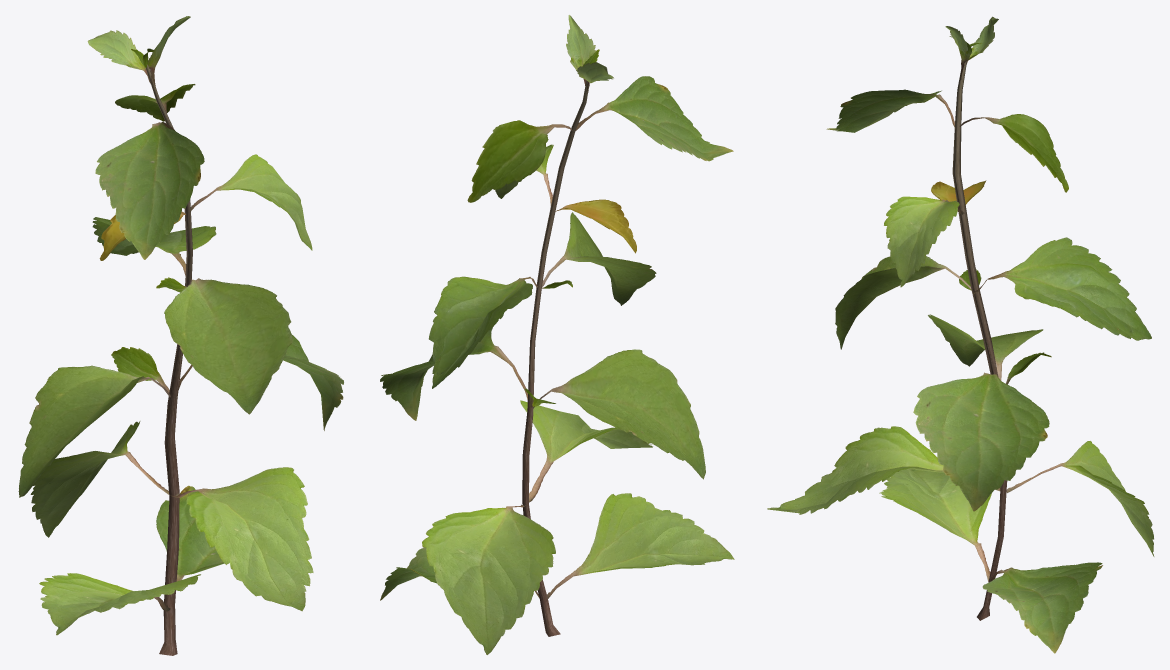
Rendered from shrub_01_e_LOD1.glb.
3 views of the same model, side by side, from view 1: azimuth 30°, elevation 25°; view 2: azimuth 150°, elevation 25°; view 3: azimuth 270°, elevation 25° (orthographic). The views are drawn at different scales.
Parts seen in each view (by area): view 1: shrub_01_e_LOD1__lod0; view 2: shrub_01_e_LOD1__lod0; view 3: shrub_01_e_LOD1__lod0.
Boxes of the visible parts, box(x1,y1,x2,y2) form: shrub_01_e_LOD1__lod0: box(18, 16, 343, 655); shrub_01_e_LOD1__lod0: box(380, 15, 734, 654); shrub_01_e_LOD1__lod0: box(767, 16, 1154, 653).
Size of what is drawn, in the model's own units: 0.0945 by 0.1828 by 0.1089.
Materials: 1 (1 with a texture image).
